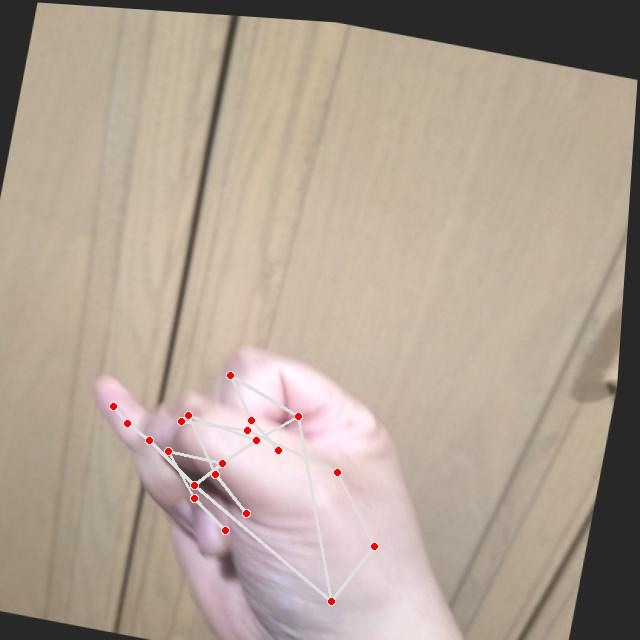J: (36, 292, 504, 639)
